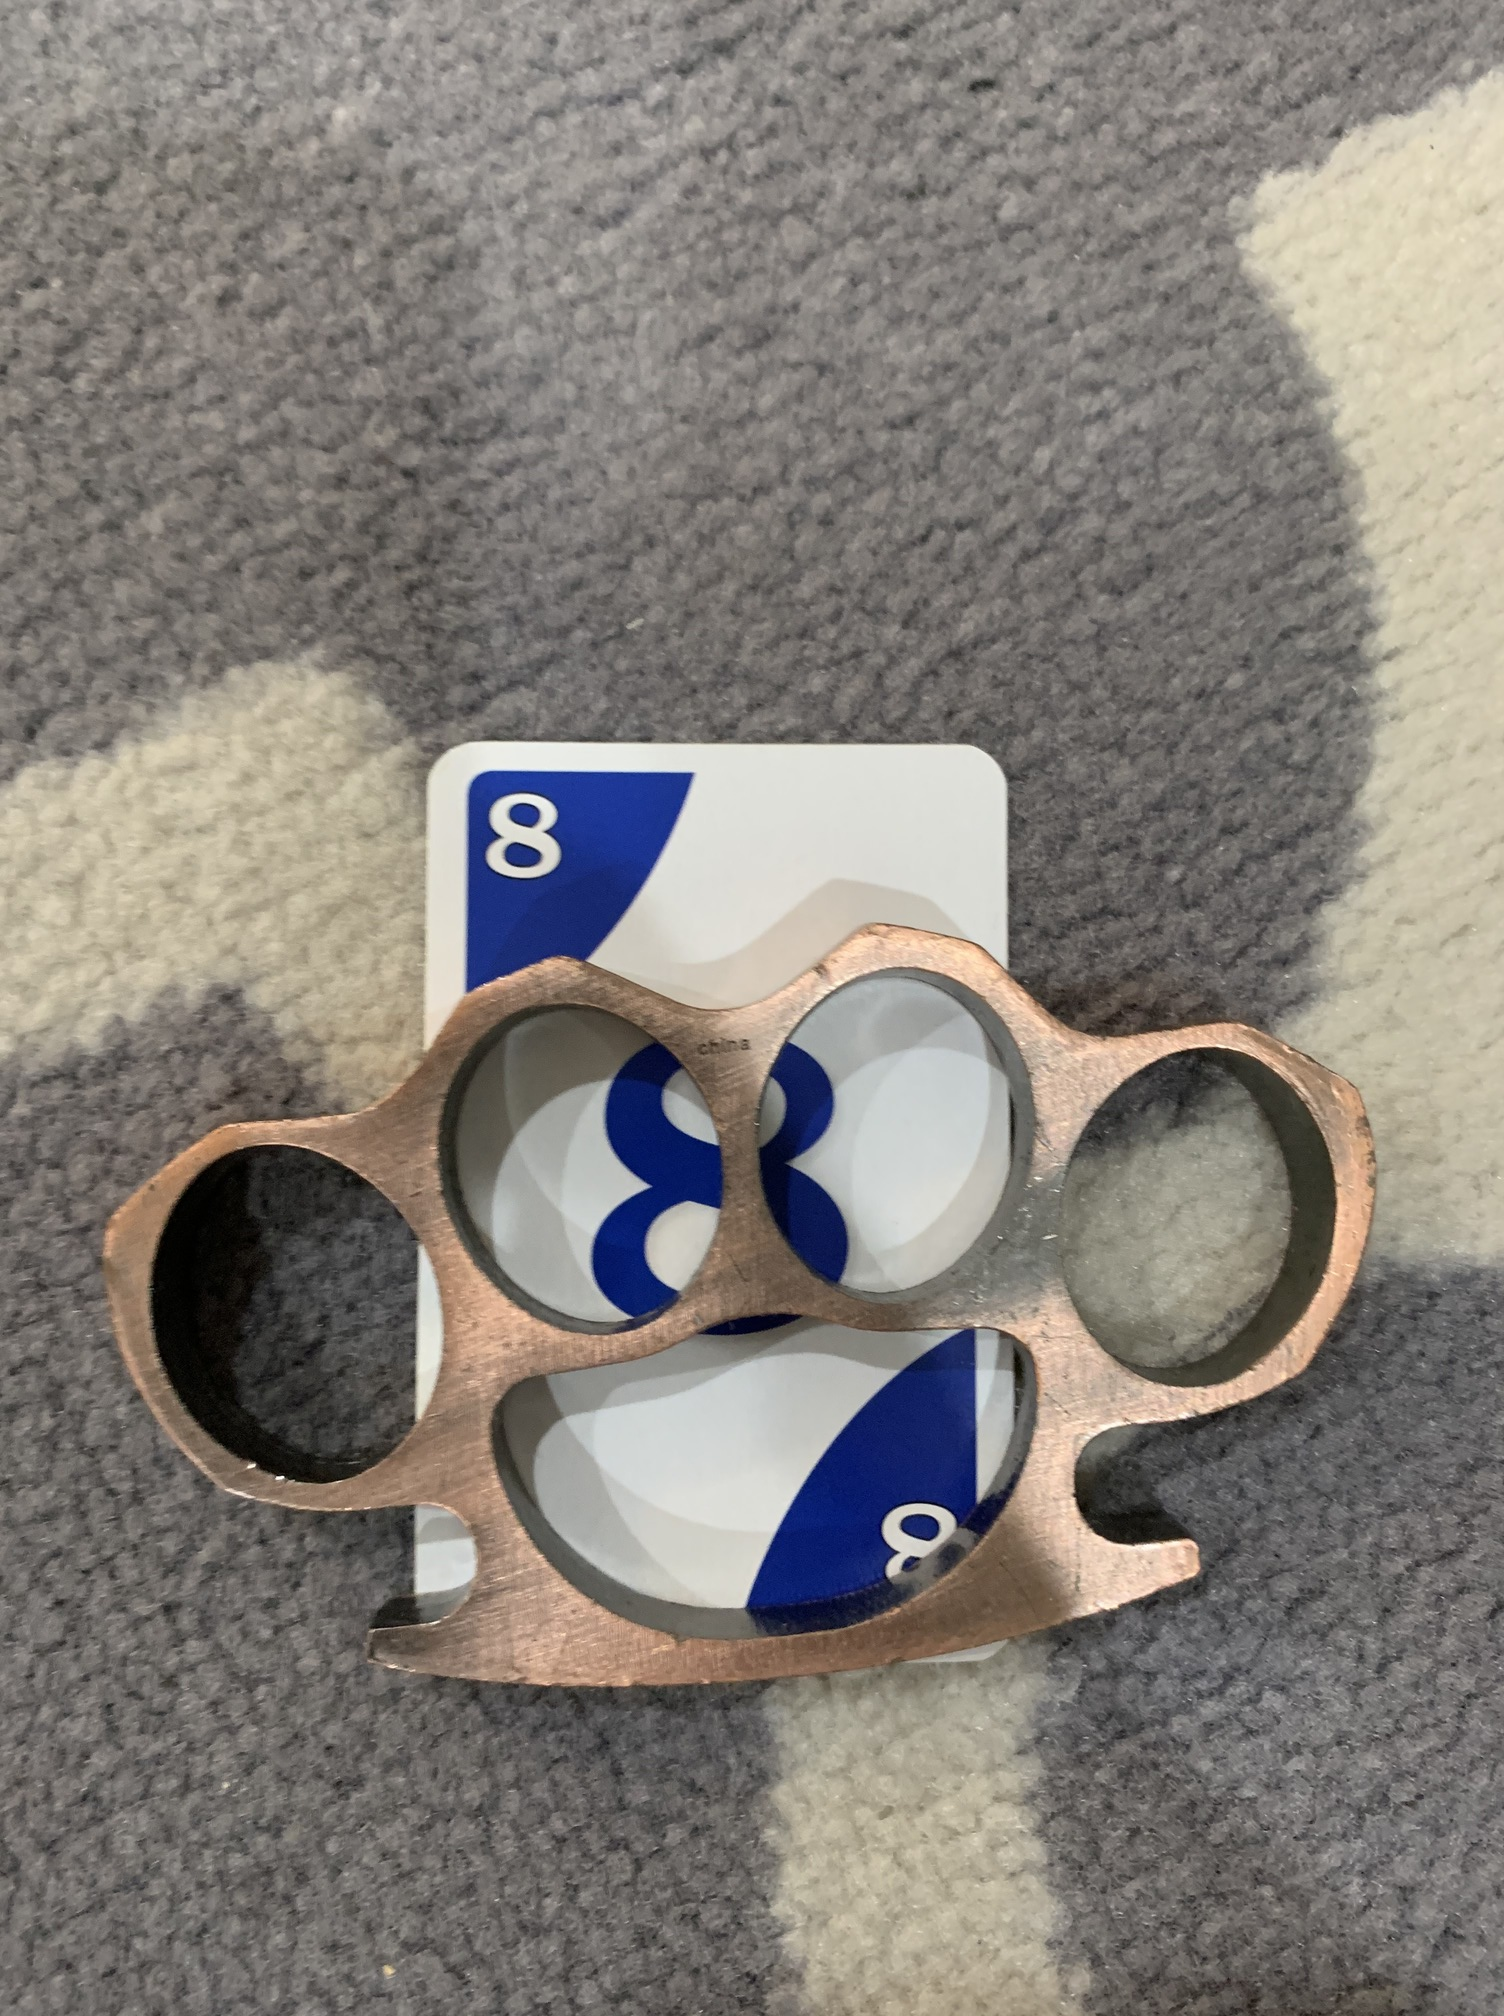eight: (403, 735, 1051, 1672)
